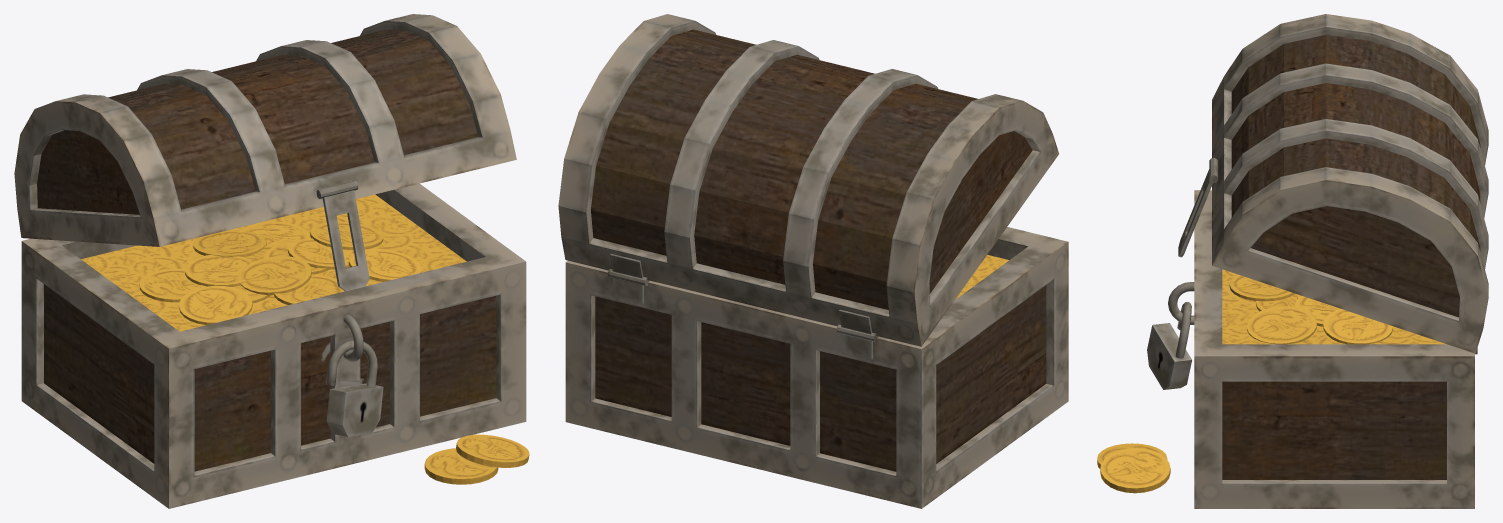
The picture shows the model from 3 angles, left to right: view 1: azimuth 30°, elevation 25°; view 2: azimuth 150°, elevation 25°; view 3: azimuth 270°, elevation 25°; orthographic projection. The views are drawn at different scales.
Parts seen in each view (by area): view 1: Treasure; view 2: Treasure; view 3: Treasure.
Part boxes in pixels (x1,y1,x2,y2): Treasure: [14, 14, 529, 508]; Treasure: [558, 14, 1068, 508]; Treasure: [1097, 14, 1488, 508].
Bounding box in the file's own units: 2.8 × 2.58 × 2.79.
Materials: 1 (1 with a texture image).
